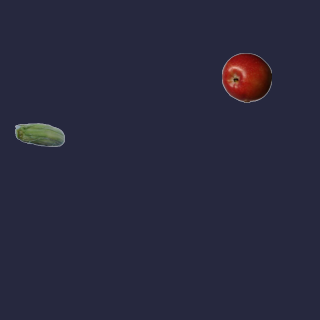Apple Braeburn: (221, 52, 271, 102)
Corn Husk: (14, 111, 64, 161)
